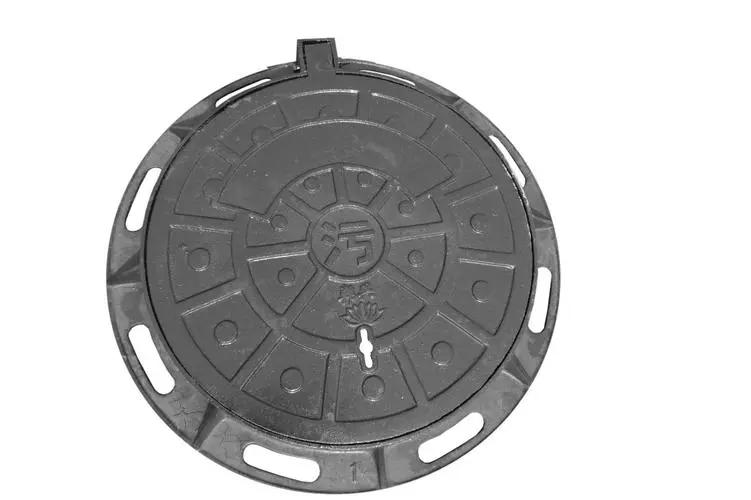wellcover: (93, 38, 544, 500)
